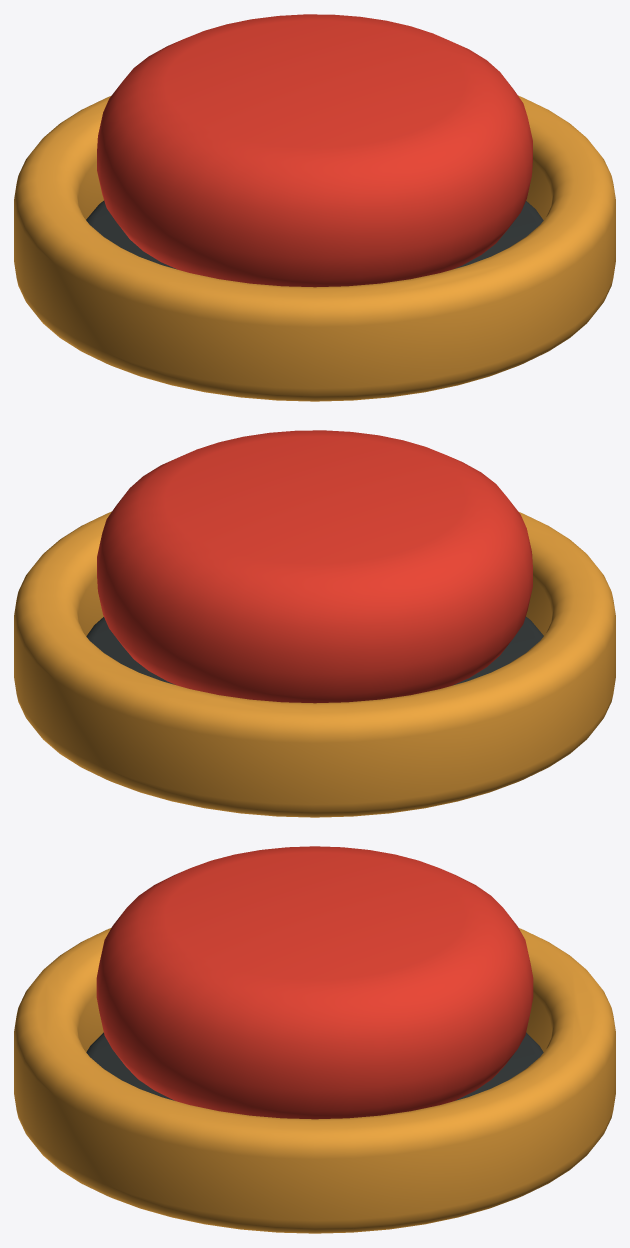
The model's file is panic_button.glb.
The picture shows the model from 3 angles, top to bottom: view 1: azimuth 30°, elevation 25°; view 2: azimuth 150°, elevation 25°; view 3: azimuth 270°, elevation 25°; orthographic projection.
Visible parts, largest first — view 1: Cap_thumb, Housing, Well; view 2: Cap_thumb, Housing, Well; view 3: Cap_thumb, Housing, Well.
Boxes of the visible parts, x1,y1,x2,y2 form: Cap_thumb: (97,14,532,287); Housing: (14,95,615,401); Well: (86,200,543,269); Cap_thumb: (97,430,532,703); Housing: (14,511,615,817); Well: (86,616,543,685); Cap_thumb: (96,846,533,1119); Housing: (14,928,615,1233); Well: (86,1032,543,1100).
Size of the model in its own units: 0.16 by 0.058 by 0.16.
